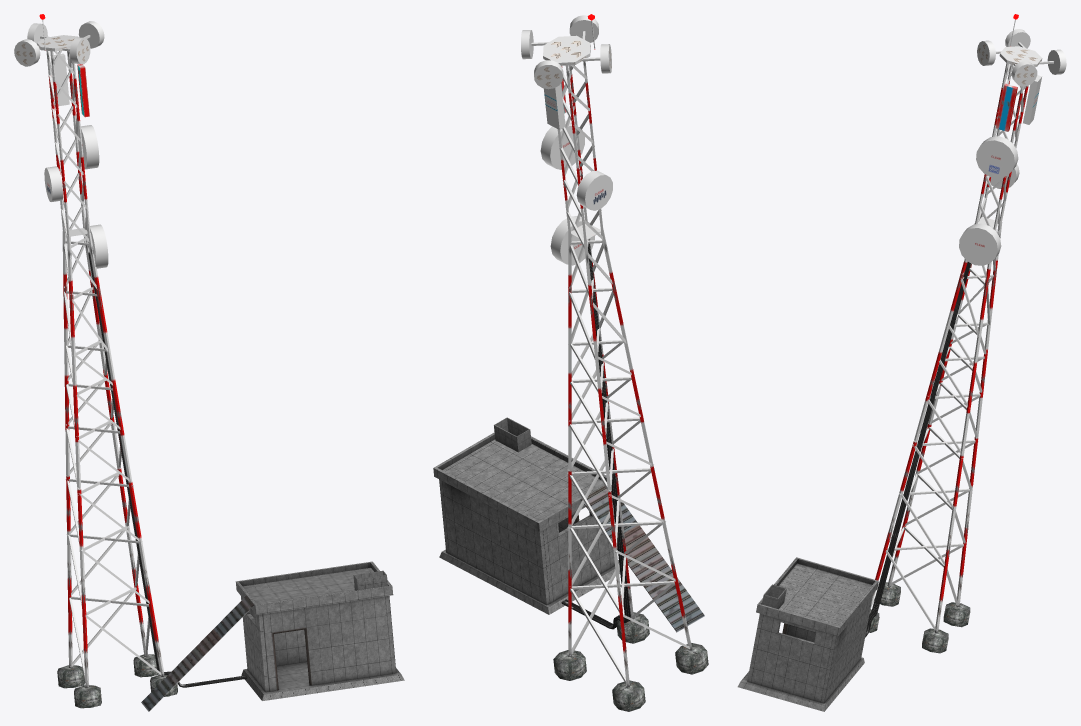
File: Cell_Tower.glb
3 renders of one model, left to right at view 1: azimuth 30°, elevation 25°; view 2: azimuth 150°, elevation 25°; view 3: azimuth 270°, elevation 25°, orthographic. The views are drawn at different scales.
Parts seen in each view (by area): view 1: Tower_1, Shack001_0; view 2: Tower_1, Shack001_0; view 3: Tower_1, Shack001_0.
Boxes of the visible parts, x1,y1,x2,y2 form: Tower_1: (14,19,247,708); Shack001_0: (141,561,404,711); Tower_1: (521,15,708,711); Shack001_0: (433,417,704,632); Tower_1: (865,19,1066,653); Shack001_0: (737,557,878,711).
Bounding box in the file's own units: 8.4 × 19 × 9.3.
Materials: 3 (2 with a texture image).
